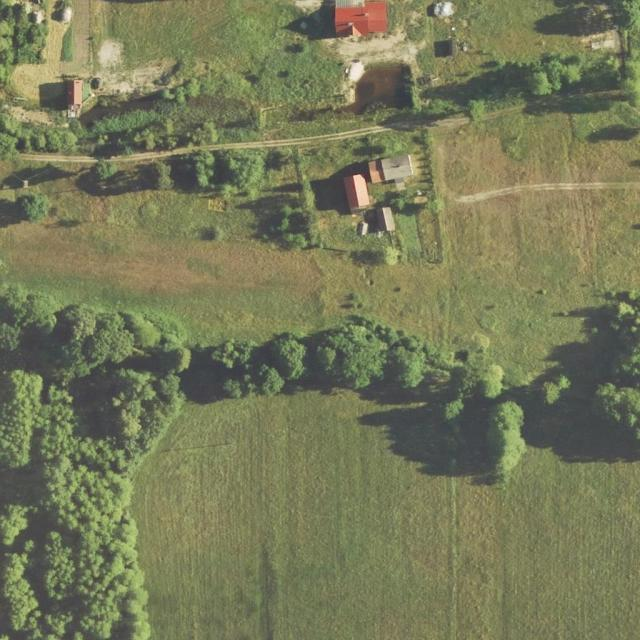agricultural_land: (328, 0, 640, 124)
building: (367, 155, 416, 195), (344, 173, 371, 212), (66, 79, 85, 118), (366, 207, 395, 232), (61, 6, 72, 23)
greenland: (175, 273, 549, 496), (0, 285, 189, 639), (58, 103, 336, 159)
